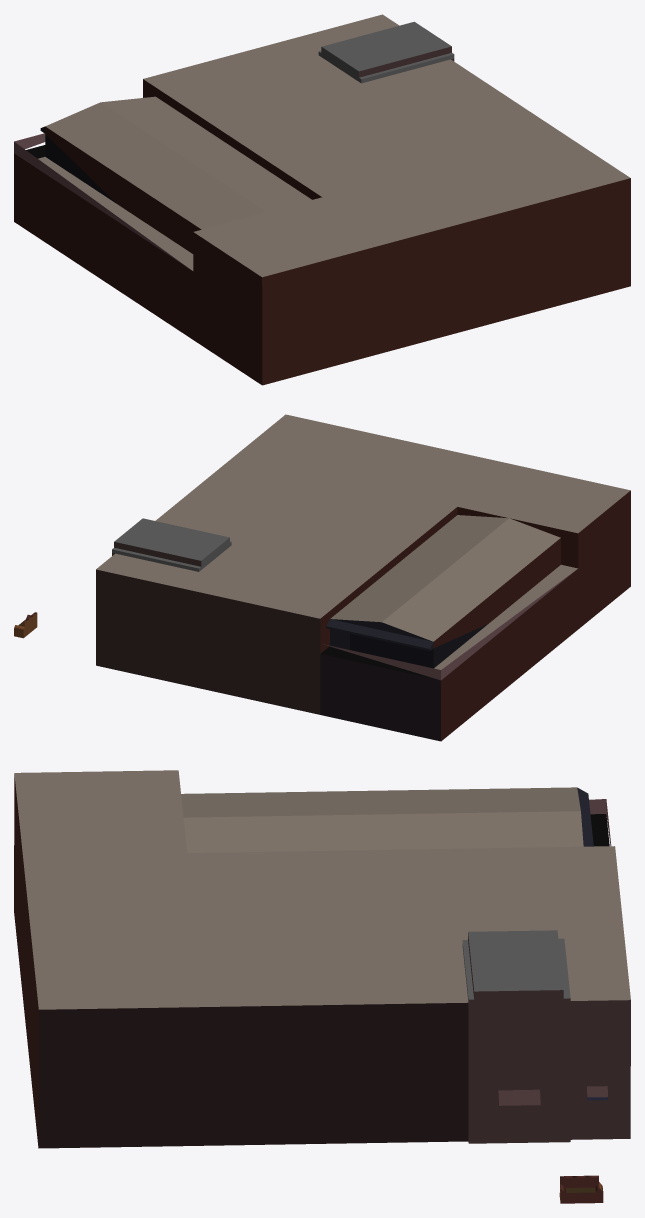
Rendered from ben-jerrys-downtown-chattanooga.glb.
3 renders of one model, top to bottom at view 1: azimuth 30°, elevation 25°; view 2: azimuth 150°, elevation 25°; view 3: azimuth 270°, elevation 25°, orthographic. The views are drawn at different scales.
Parts seen in each view (by area): view 1: LOD0; view 2: LOD0; view 3: LOD0.
Part boxes in pixels (x1=…): LOD0: x1=14, y1=14, x2=630, y2=385; LOD0: x1=14, y1=414, x2=630, y2=741; LOD0: x1=14, y1=770, x2=630, y2=1203.
Size of what is drawn, in the model's own units: 41.85 by 9.86 by 36.14.
Materials: 2 (2 with a texture image).
